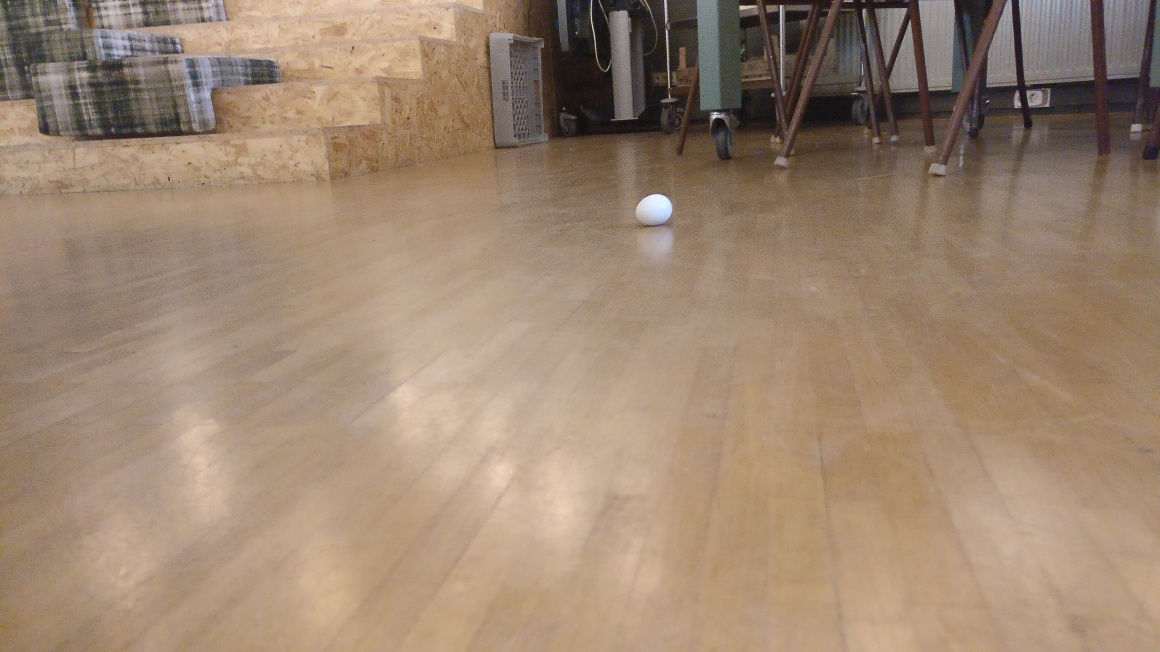egg: (634, 192, 672, 226)
